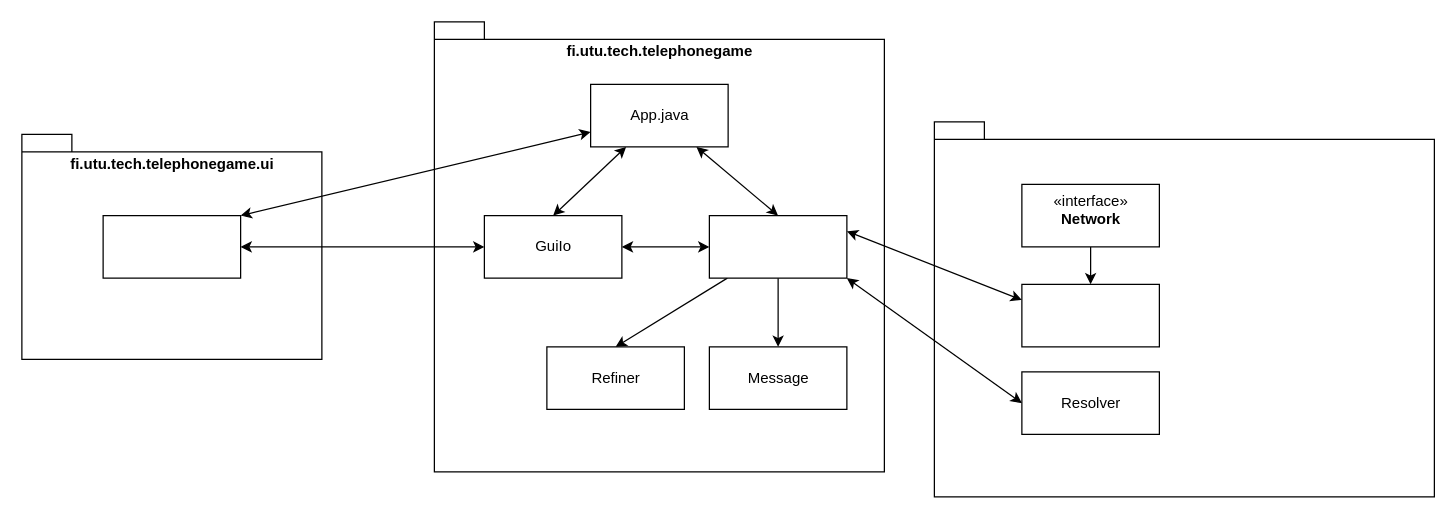
The diagram is 1456 pixels wide and 519 high, and some of its shapes have lost their labels. The box of each missing label's shape, as (x1, y1, x2, y2) in pixels:
fi.utu.tech.telephonegame.network: (933, 121, 1434, 497)
MainViewController: (102, 214, 241, 278)
MessageBroker: (708, 214, 847, 278)
NetworkService: (1021, 283, 1159, 347)
